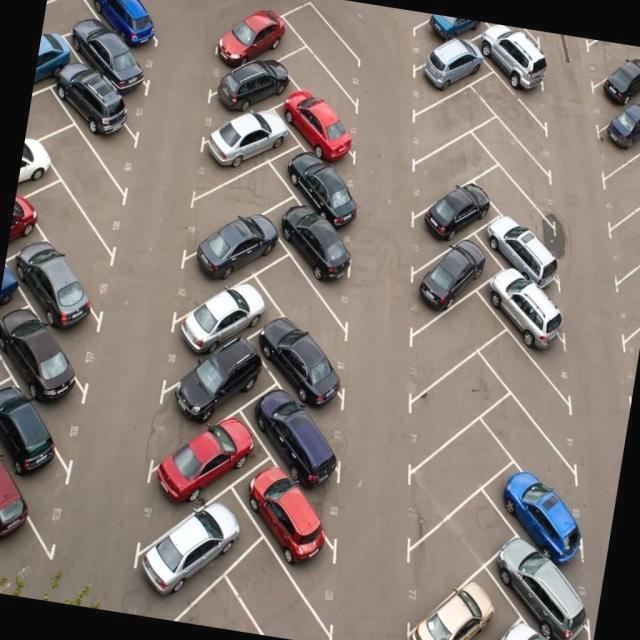space-empty: (403, 407, 508, 536), (250, 242, 361, 360), (475, 319, 583, 437), (404, 284, 502, 407), (476, 382, 579, 497), (226, 539, 343, 640), (402, 355, 496, 478), (181, 144, 286, 239), (403, 487, 509, 577), (37, 179, 119, 290), (53, 134, 129, 247), (398, 133, 491, 213), (470, 115, 559, 198), (473, 69, 561, 151), (400, 82, 492, 159), (481, 160, 562, 242), (282, 38, 367, 114), (291, 2, 363, 83), (597, 153, 640, 230), (575, 38, 640, 88), (475, 22, 555, 58), (610, 196, 640, 278), (617, 250, 640, 335), (618, 301, 640, 389)
space-occupied: (137, 490, 243, 616), (141, 401, 254, 514), (239, 448, 334, 563), (178, 194, 279, 302), (487, 537, 600, 632), (22, 231, 103, 361), (249, 311, 352, 412), (55, 69, 147, 174), (163, 329, 263, 425), (4, 299, 79, 423), (479, 263, 580, 353), (178, 259, 275, 352), (255, 384, 345, 484), (272, 143, 365, 236), (398, 233, 486, 331), (273, 198, 369, 287), (394, 567, 509, 640), (496, 463, 579, 561), (0, 381, 66, 504), (69, 18, 155, 111), (185, 96, 283, 177), (403, 177, 488, 257), (278, 87, 361, 168), (209, 0, 297, 76), (0, 445, 45, 582), (405, 28, 484, 106), (205, 57, 295, 125), (477, 215, 560, 285), (473, 28, 553, 99), (79, 0, 174, 58), (583, 56, 639, 127), (407, 11, 483, 62), (590, 103, 640, 175), (484, 610, 596, 640)
